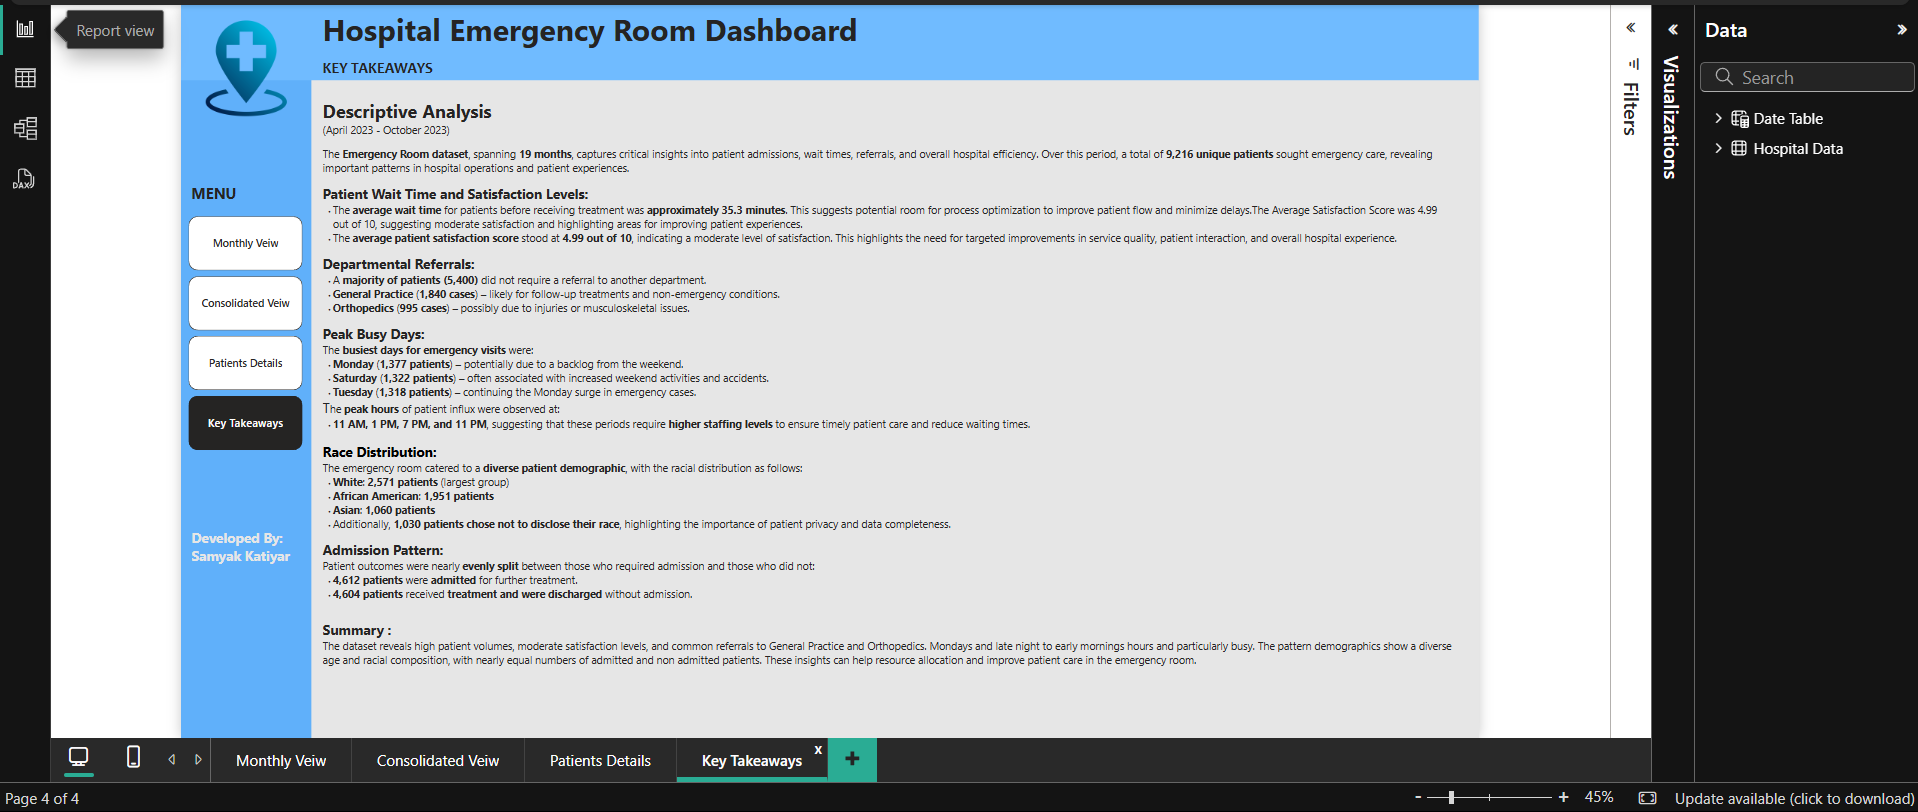

The dashboard page shown, as its layout file describes it:
{"tool":"powerbi","page":{"name":"Key Takeaways","canvas":[2300,1300],"ordinal":3},"visuals":[{"type":"shape","box":[0,0,231,1300],"z":0},{"type":"image","box":[0,0,231.2,118.8],"z":1000},{"type":"shape","box":[0,0,2300,133.3],"z":2000},{"type":"textbox","box":[245.9,2.2,1001.4,88.6],"z":3000},{"type":"textbox","box":[245.8,91.7,233.3,52.1],"z":4000},{"type":"image","box":[0,22.2,230.6,180.6],"z":5000},{"type":"textbox","box":[245.5,143.6,2014.5,1156.4],"z":6000},{"type":"pageNavigator","box":[14.3,373.5,202,416.3],"z":7000},{"type":"textbox","box":[14.3,310.2,159.2,63.3],"z":8000},{"type":"textbox","box":[13.3,923.8,217.1,95.3],"z":9000}]}

Visuals, with their boxes on the page's 2300x1300 design canvas (x1, y1, x2, y2). These are canvas units, not pixel positions in the 1918x812 screenshot, which may show the page scaled, cropped or inside an application window:
shape: <box>0,0,231,1300</box>
image: <box>0,0,231,119</box>
shape: <box>0,0,2300,133</box>
textbox: <box>246,2,1247,91</box>
textbox: <box>246,92,479,144</box>
image: <box>0,22,231,203</box>
textbox: <box>246,144,2260,1300</box>
pageNavigator: <box>14,374,216,790</box>
textbox: <box>14,310,174,374</box>
textbox: <box>13,924,230,1019</box>
